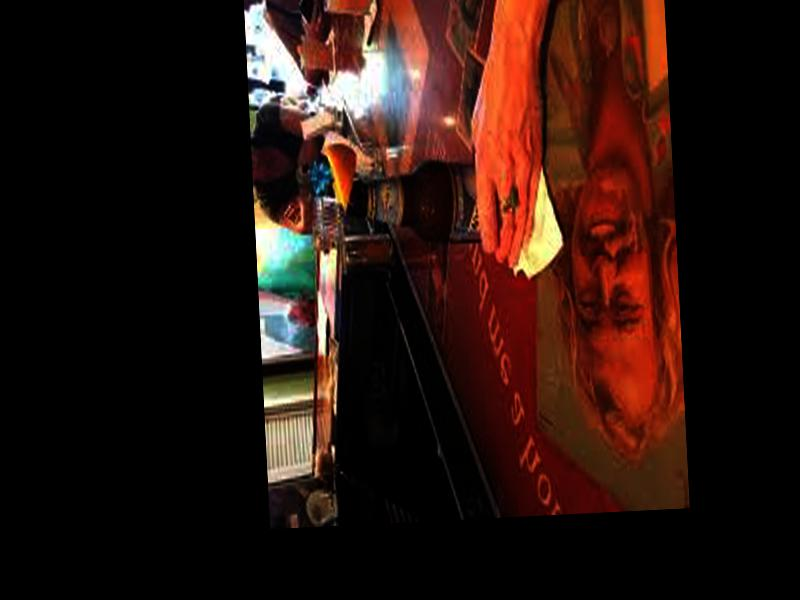Beer: (340, 161, 534, 252)
